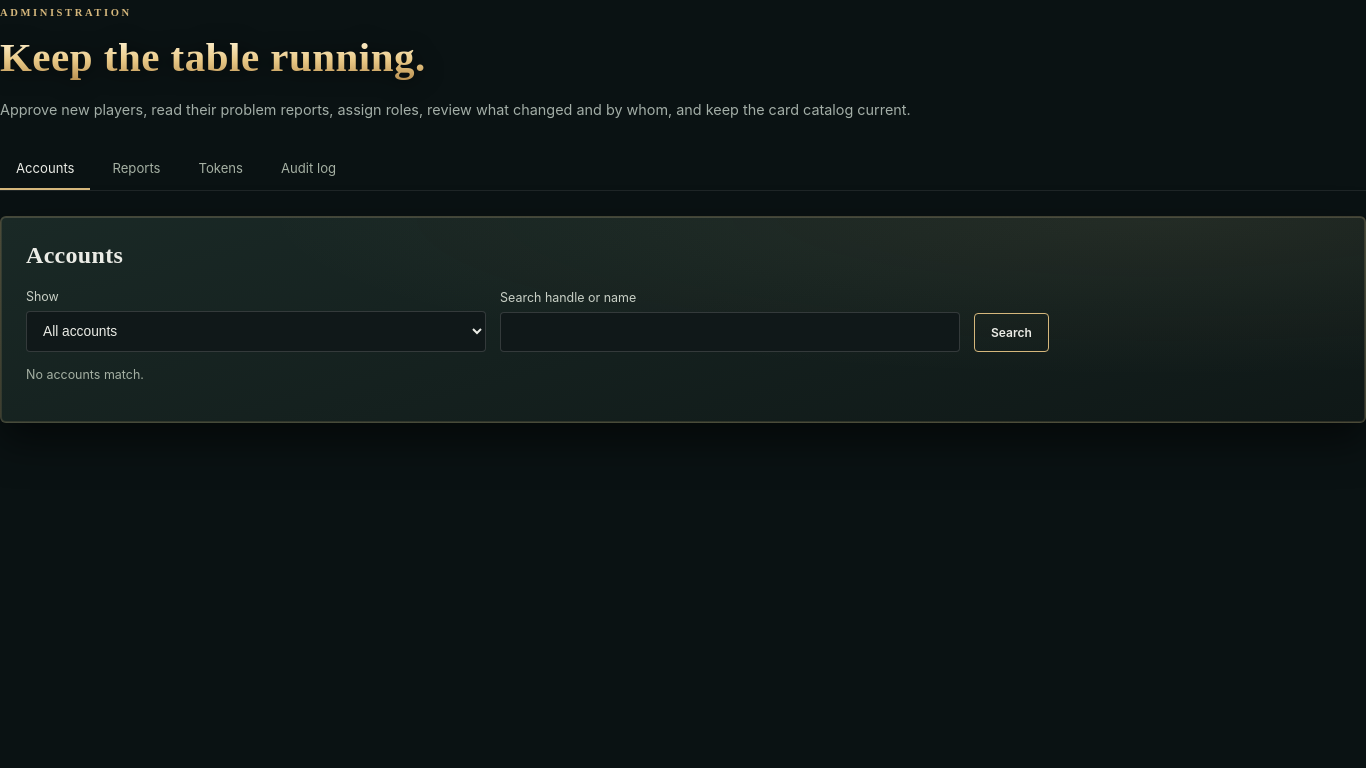
a report of a message › from a friend says so, with no game
Step 1. Click the tab "Reports" → (136, 169), box [96, 148, 176, 190]
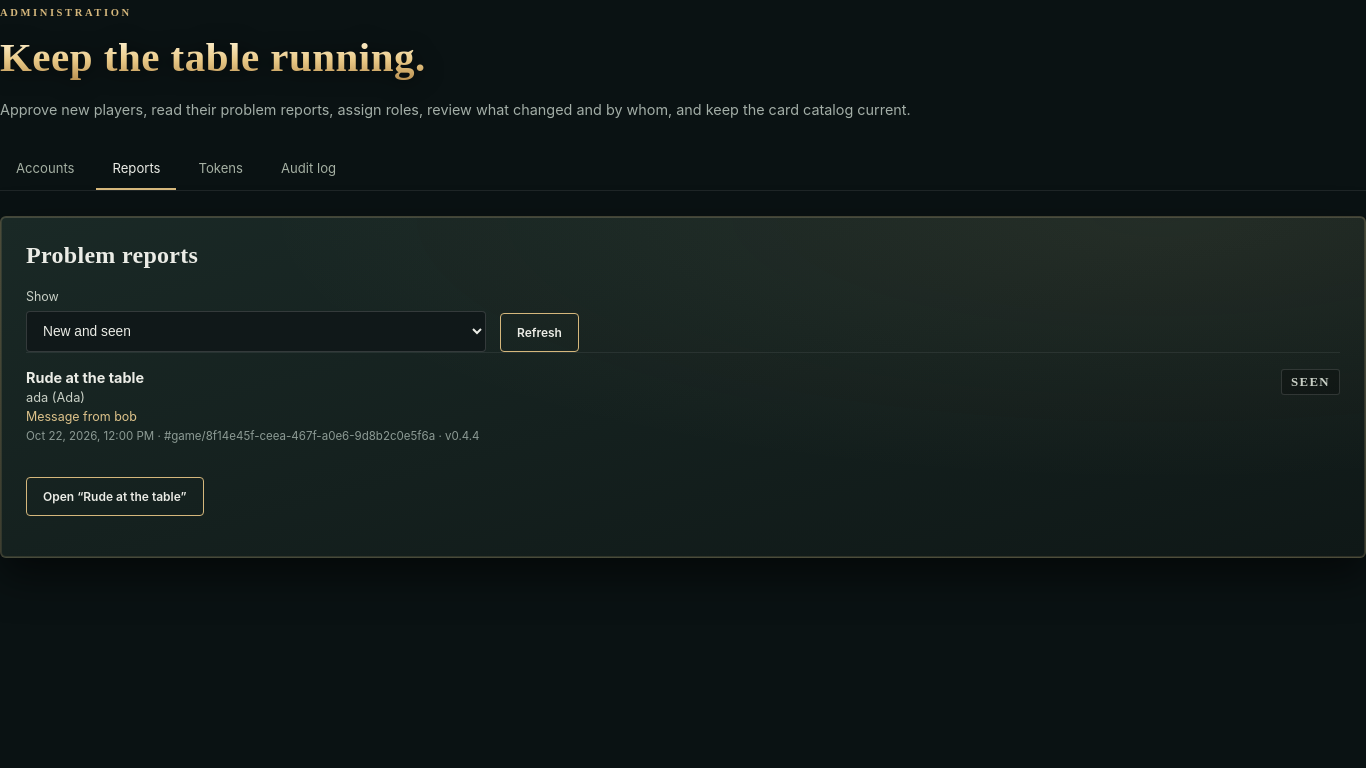
Step 2. Click the button "Open “Rude at the table”" → (115, 496), box [26, 477, 204, 516]
(page scrolled)
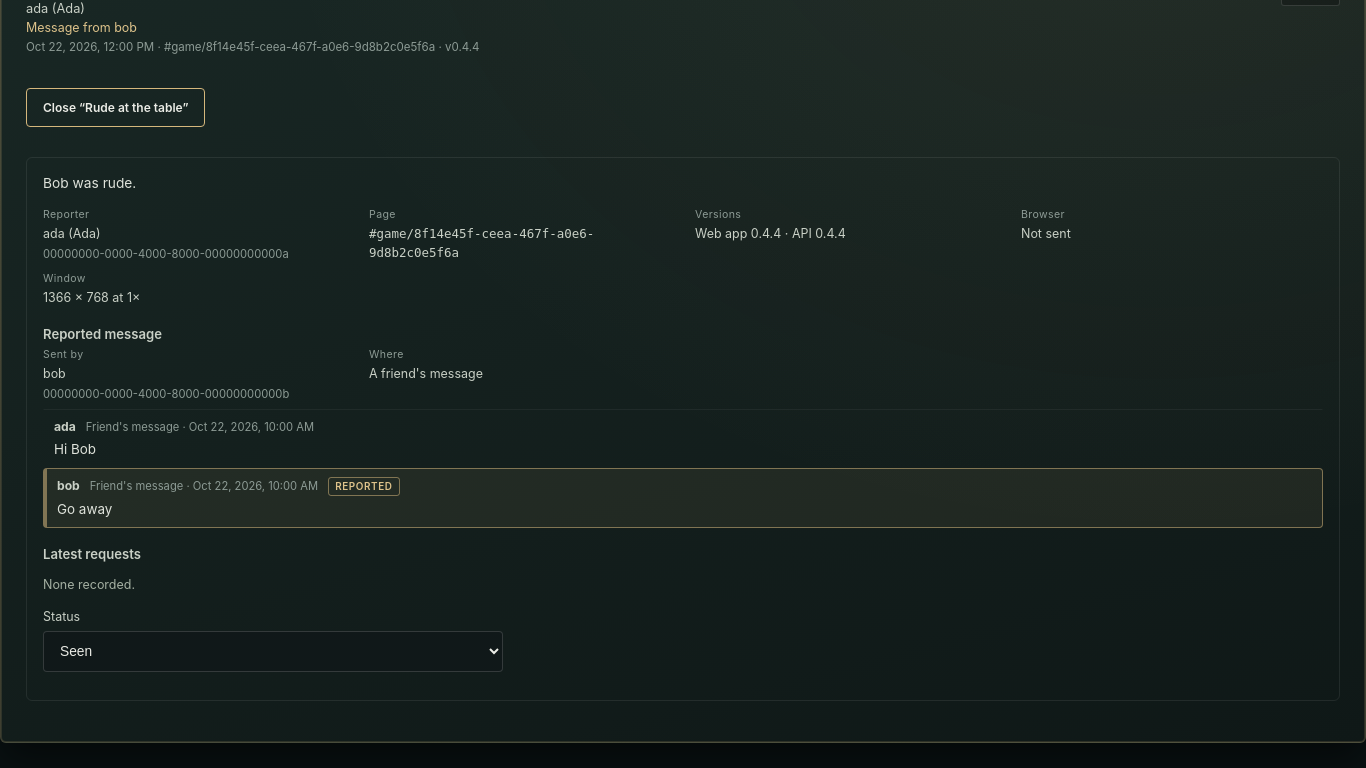
Expected: the list item "Rude at the table" does not show "Game", [26, 40, 480, 54]
Result: the list item "Rude at the table" shows "A friend's message" at [369, 366, 483, 381]
